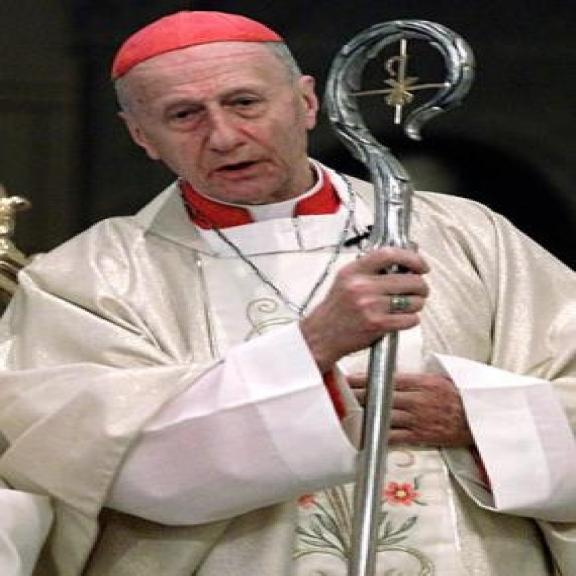face: (121, 46, 321, 204)
